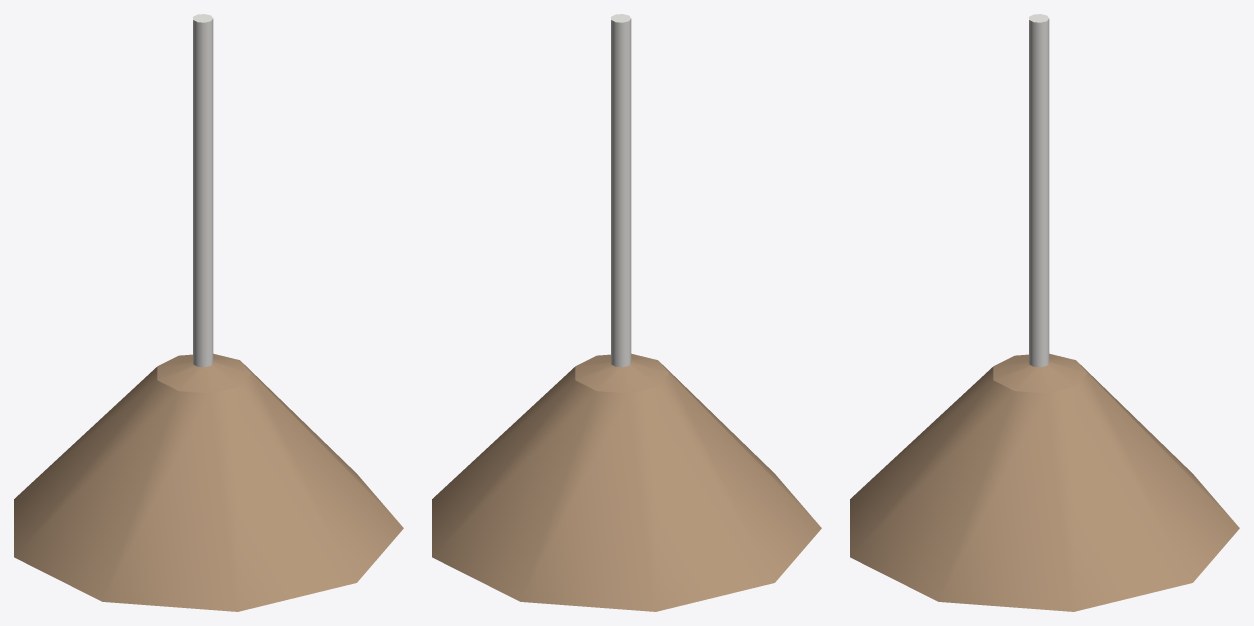
Rendered from Lamp_Restaurant.fbx.
3 views of the same model, side by side, from view 1: azimuth 30°, elevation 25°; view 2: azimuth 150°, elevation 25°; view 3: azimuth 270°, elevation 25° (orthographic).
Visible parts, largest first — view 1: Lamp_Restaurant; view 2: Lamp_Restaurant; view 3: Lamp_Restaurant.
Boxes of the visible parts, bbox=[...] form: Lamp_Restaurant: bbox=[14, 14, 403, 611]; Lamp_Restaurant: bbox=[432, 14, 821, 611]; Lamp_Restaurant: bbox=[850, 14, 1239, 611].
Size of the model in its own units: 103 by 104 by 150.
